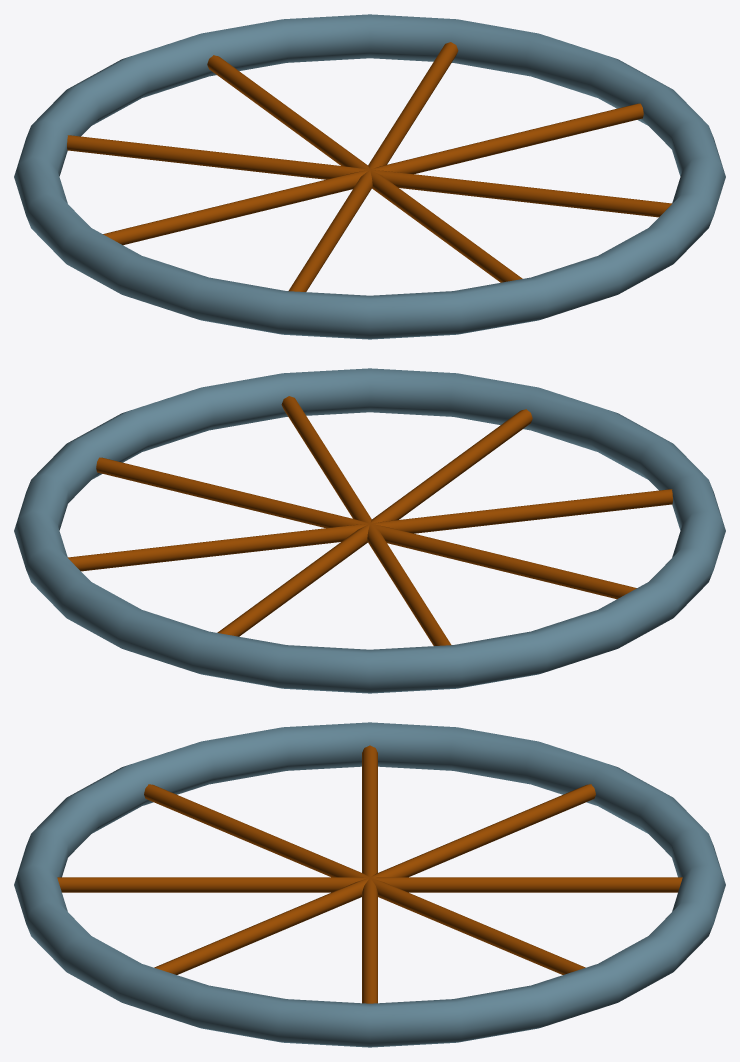
Rendered from sm_pickup_steering.fbx.
The picture shows the model from 3 angles, top to bottom: view 1: azimuth 30°, elevation 25°; view 2: azimuth 150°, elevation 25°; view 3: azimuth 270°, elevation 25°; orthographic projection.
Parts seen in each view (by area): view 1: Steering; view 2: Steering; view 3: Steering.
Boxes of the visible parts, x1=… form: Steering: x1=14, y1=14, x2=725, y2=339; Steering: x1=14, y1=368, x2=725, y2=693; Steering: x1=14, y1=722, x2=725, y2=1047.
Bounding box in the file's own units: 700 × 43.33 × 700.
